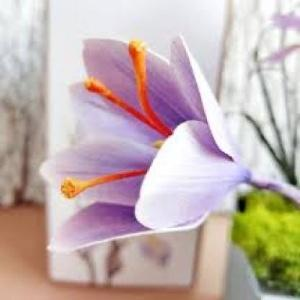Saffron: (46, 24, 260, 253)
